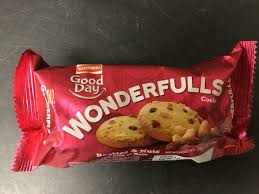gooday-small: (10, 58, 242, 166)
